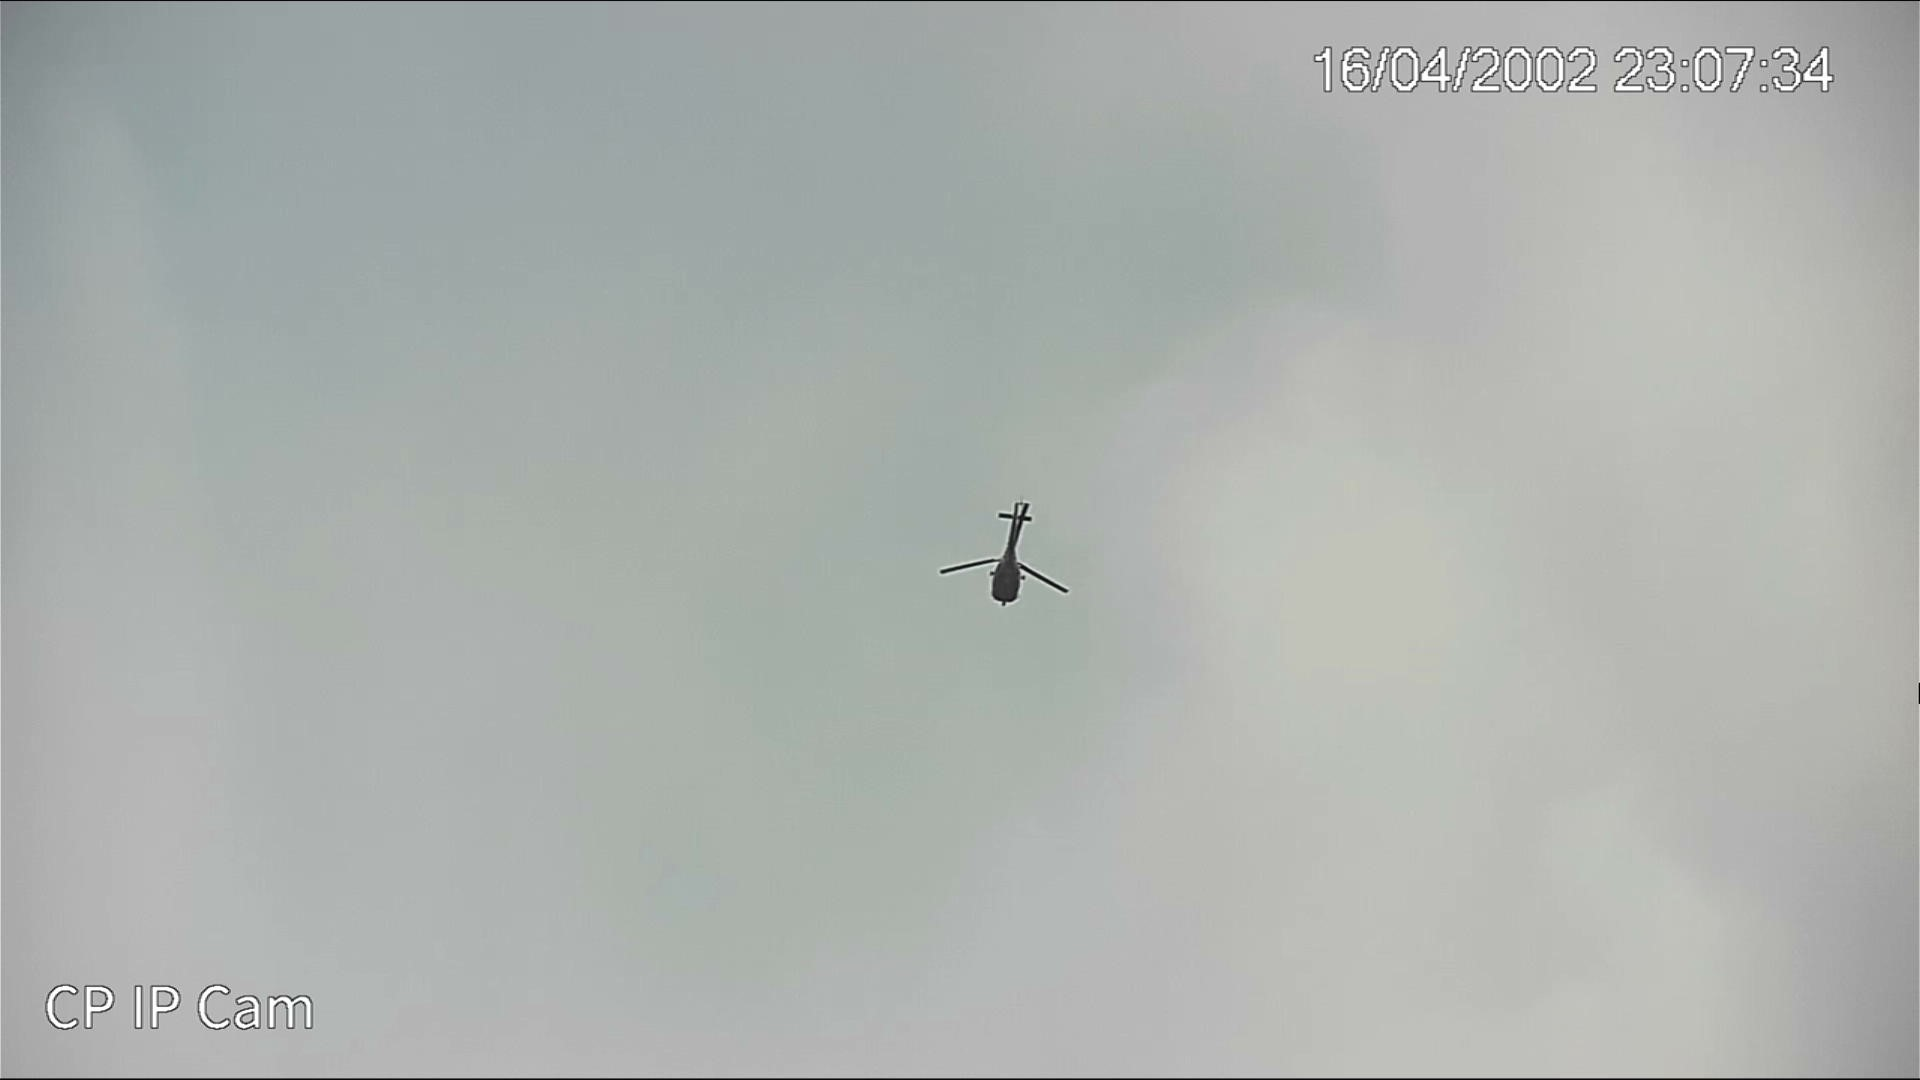SU_30: (939, 501, 1075, 620)
